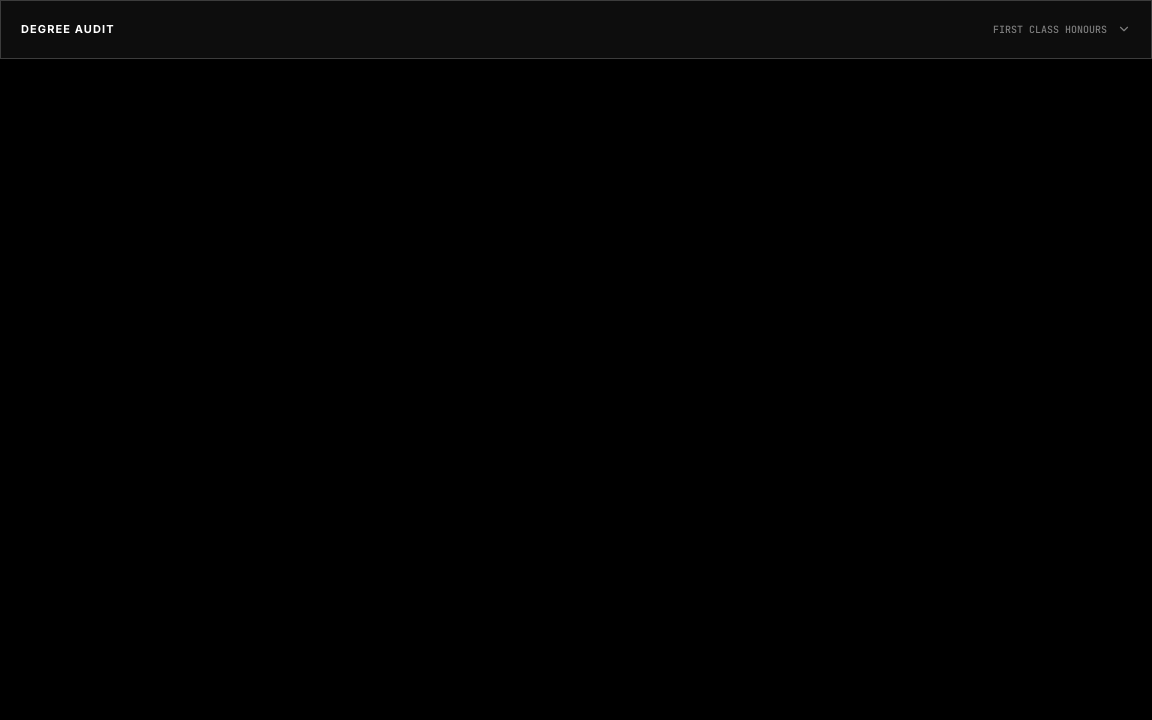
it: DegreeAudit › lists the eligibility criteria once expanded
Click the button "Degree Audit First Class Honours".
click(68, 29)  # box [1,1,1151,58]
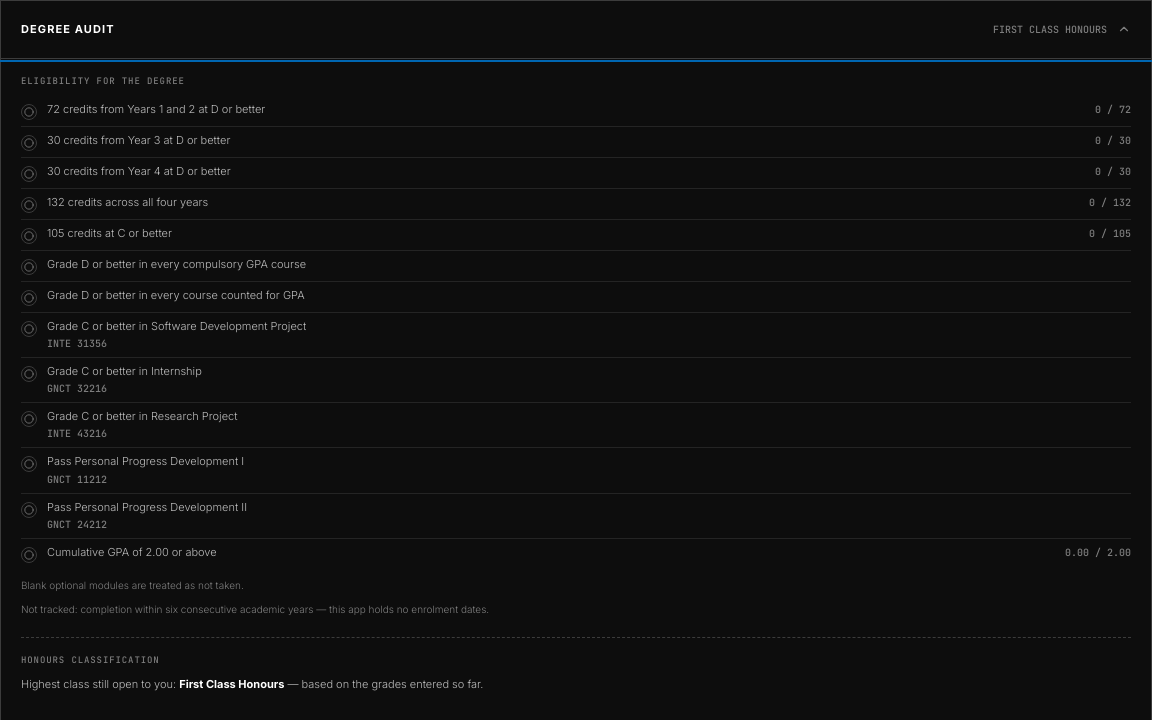
Check: the text "Eligibility for the degree" is shown, box [21,74,185,86]
Check: the text "Honours classification" is shown, box [21,654,160,666]
Check: the text "Not tracked" is shown, box [21,603,80,615]
